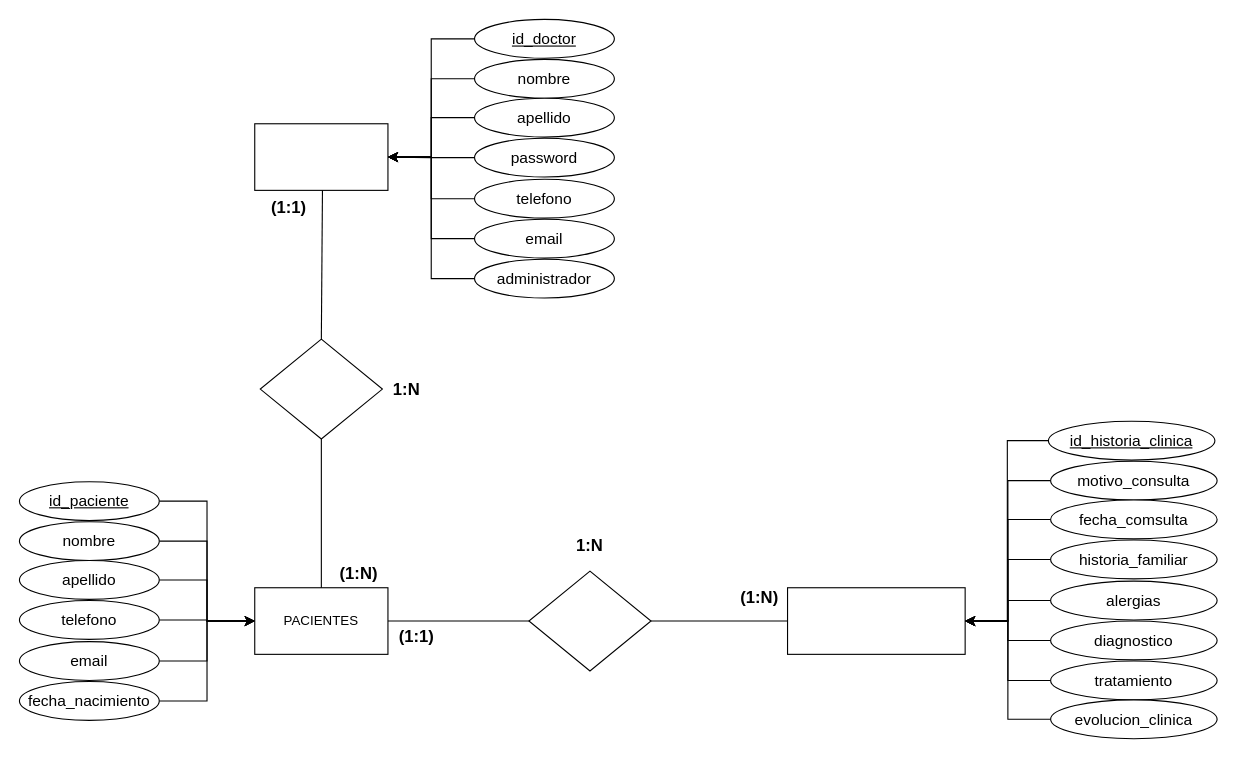
This 1237x758 diagram has some shape labels left out. The shapes that lost their labels are listed below. From the top down, each one's box as (x1, y1, x2, y2) in pixels, then its label:
(254, 123, 388, 190): DOCTORES
(259, 338, 382, 439): Consultar
(528, 570, 651, 671): Contener
(786, 587, 965, 654): HISTORIAS_CLINCIAS
